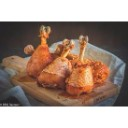chicken_lollipop: (68, 32, 95, 91), (29, 24, 54, 76), (46, 43, 69, 90)
